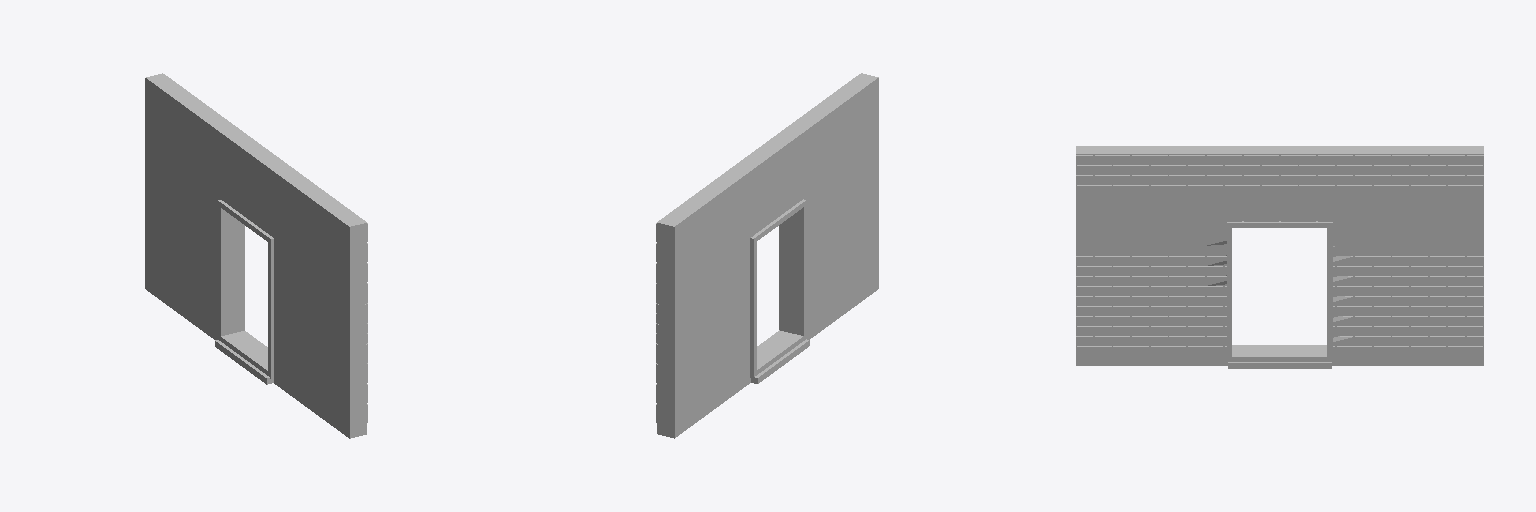
The model's file is wall_with_center_door.obj.
3 renders of one model, left to right at view 1: azimuth 30°, elevation 25°; view 2: azimuth 150°, elevation 25°; view 3: azimuth 270°, elevation 25°, orthographic.
Parts seen in each view (by area): view 1: VisualWall.004_Cube.053, VisualDoorFrame_Cube.054; view 2: VisualWall.004_Cube.053, VisualDoorFrame_Cube.054; view 3: VisualWall.004_Cube.053, VisualDoorFrame_Cube.054.
Part boxes in pixels (left/top/right/bottom): VisualWall.004_Cube.053: left=145, top=73, right=367, bottom=438; VisualDoorFrame_Cube.054: left=215, top=200, right=273, bottom=384; VisualWall.004_Cube.053: left=656, top=73, right=878, bottom=438; VisualDoorFrame_Cube.054: left=750, top=199, right=809, bottom=383; VisualWall.004_Cube.053: left=1076, top=146, right=1483, bottom=365; VisualDoorFrame_Cube.054: left=1227, top=221, right=1332, bottom=368.
Size of the model in its own units: 0.4554 by 3 by 5.25.